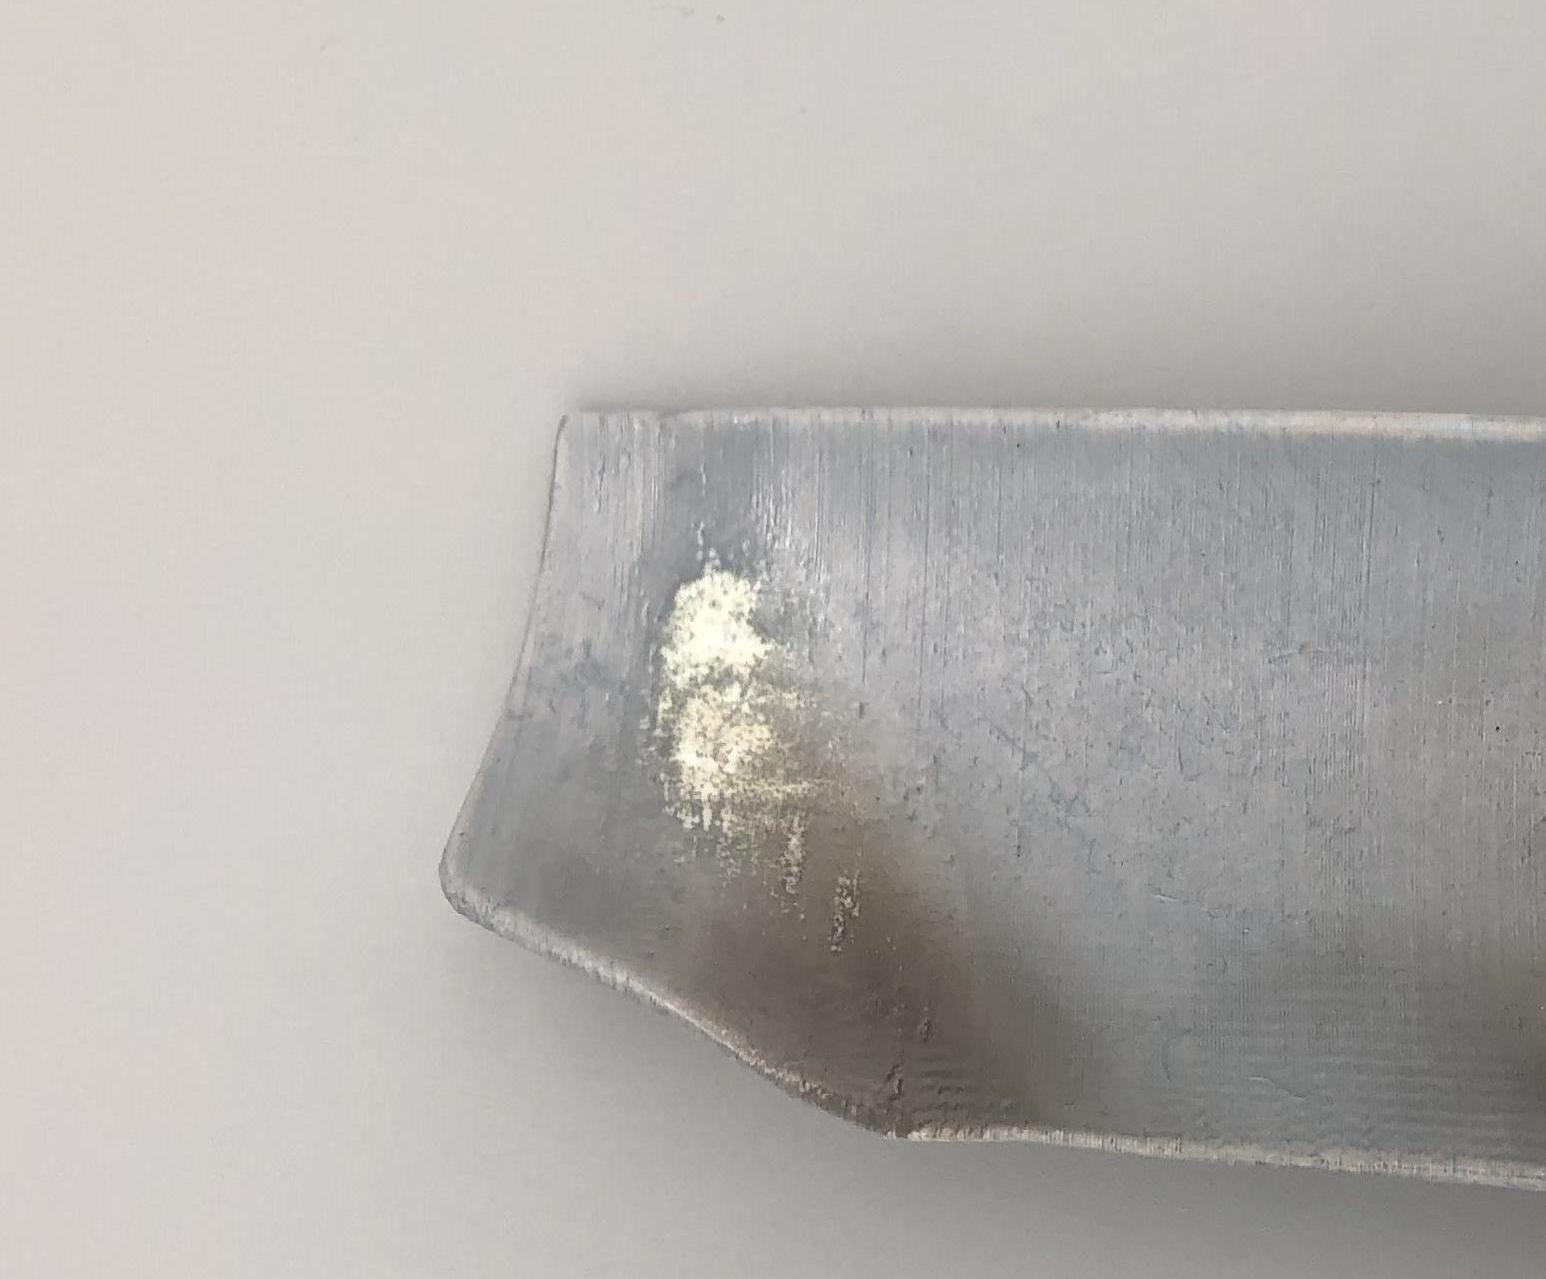ablation: (695, 673, 1025, 1107)
